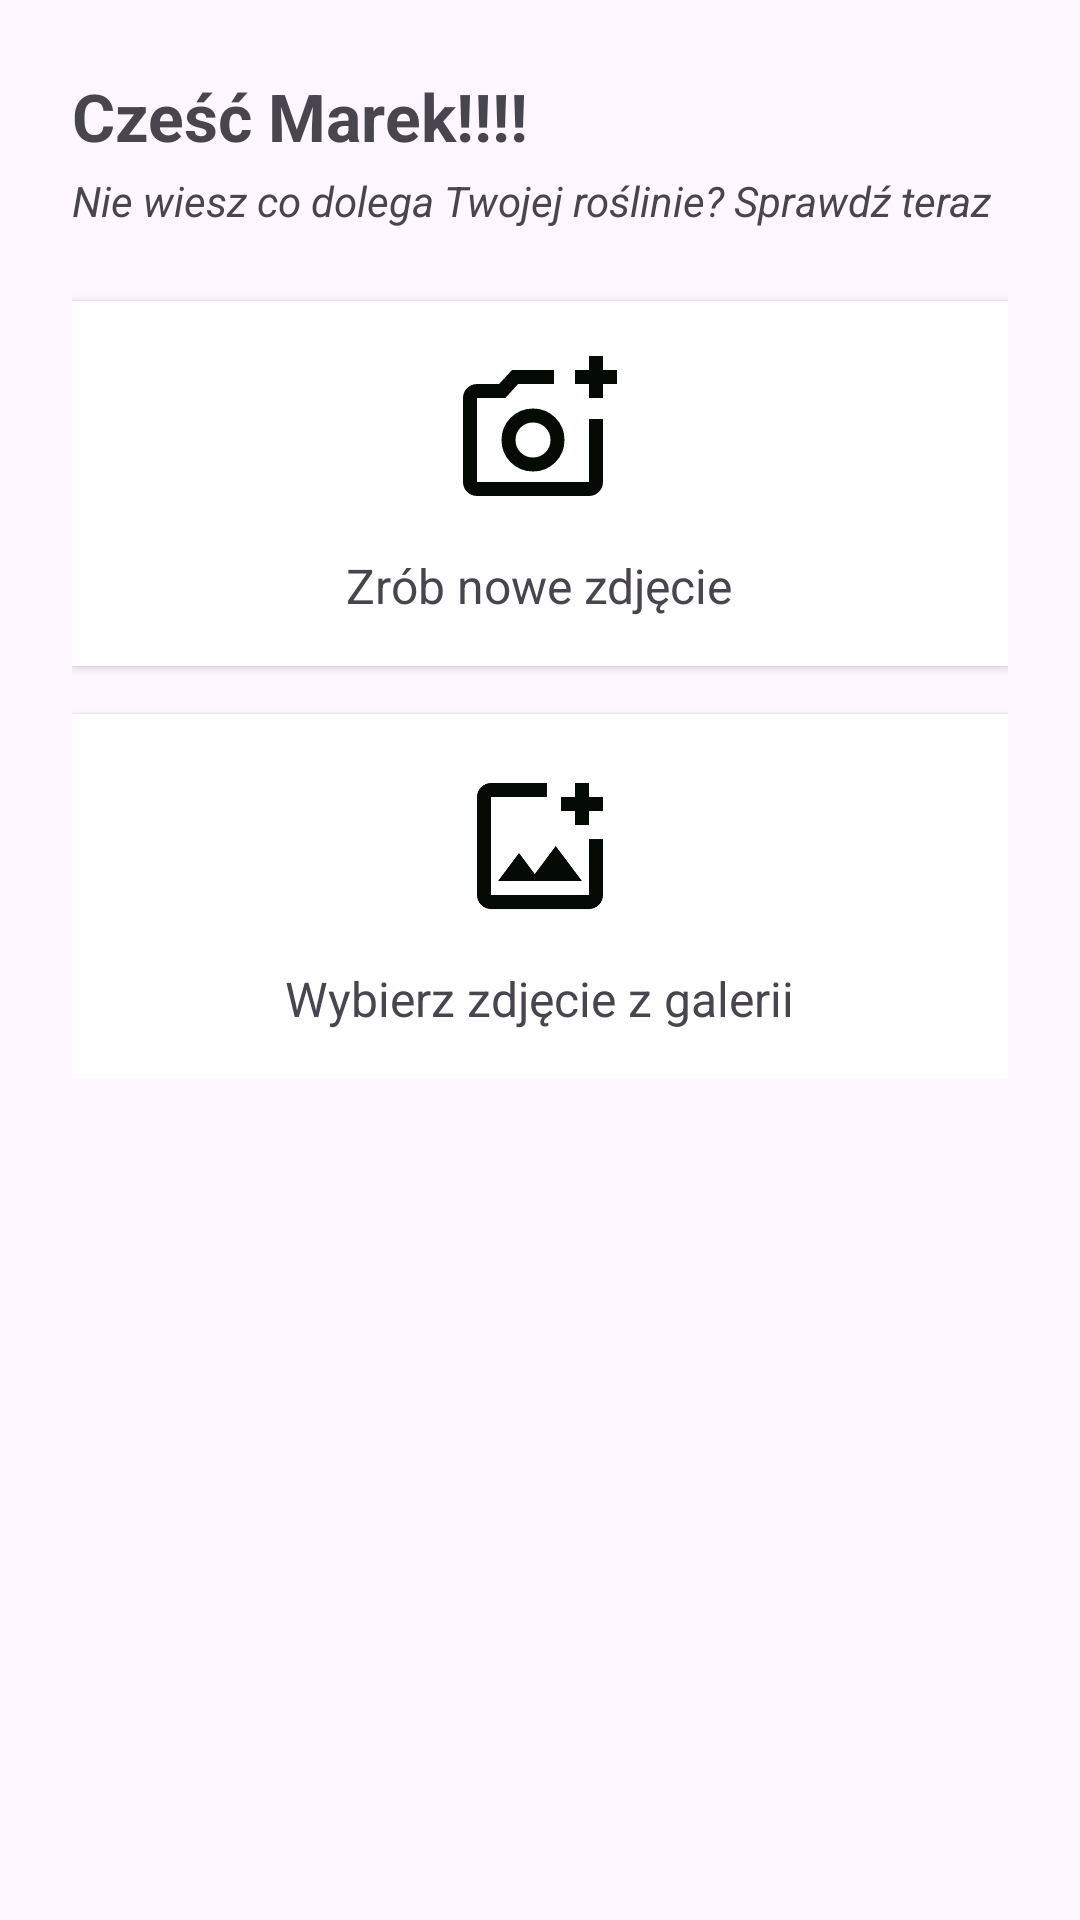

Point at icon controls on the screen. Image size 1080w x 1920h, points as [x,y].
camera: [540,426]
gallery: [540,846]
